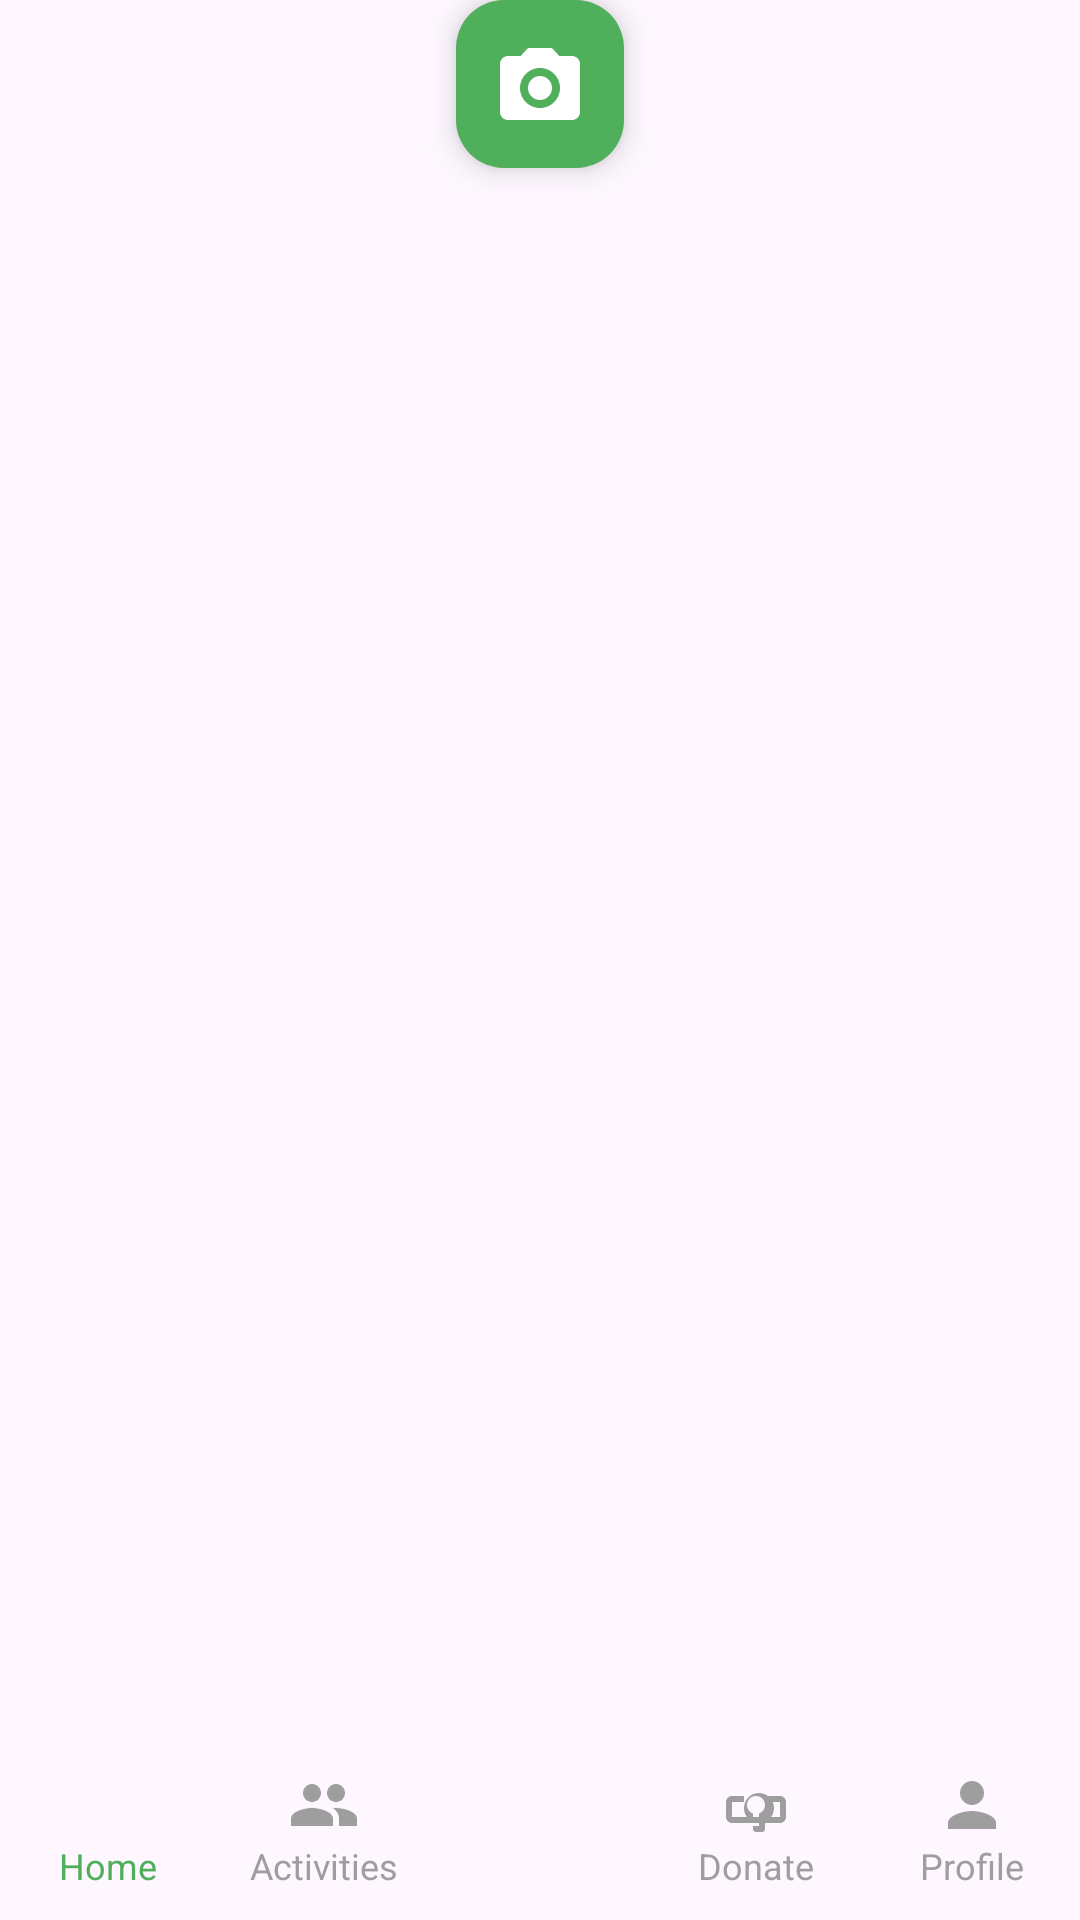

Point at icon controls on the screen. Image size 1080 x 1920, points as (x,y).
Camera: (540,84)
